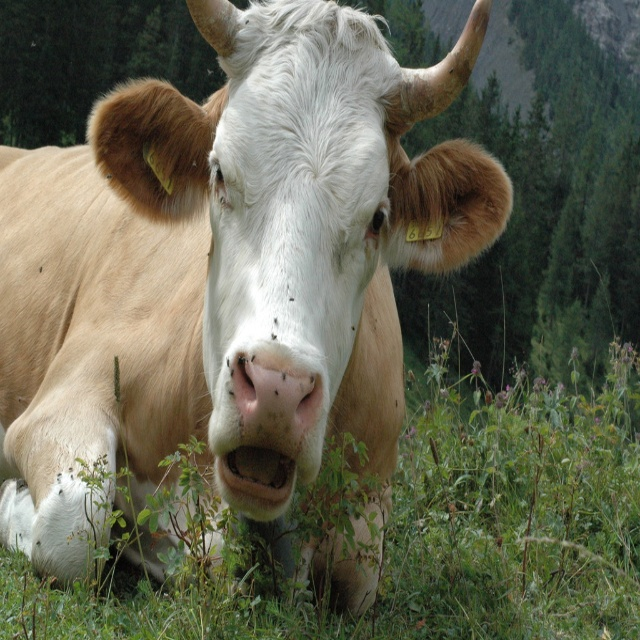Cattle: (0, 0, 514, 619)
